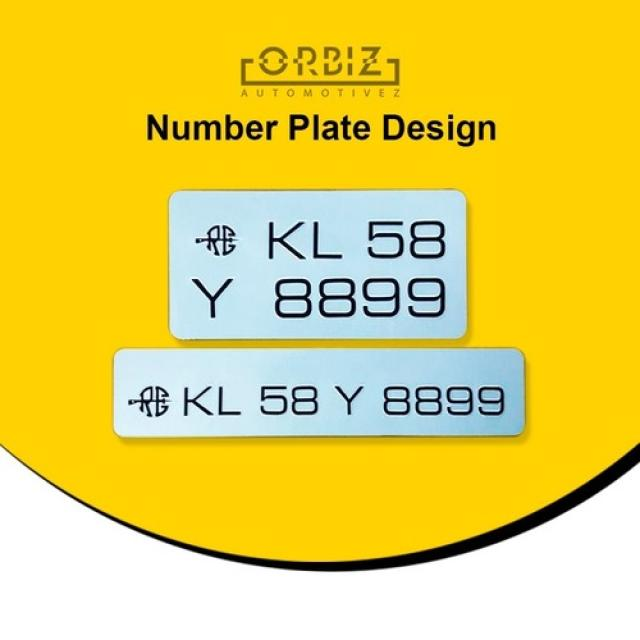plate: (166, 190, 472, 340), (110, 346, 534, 442)
